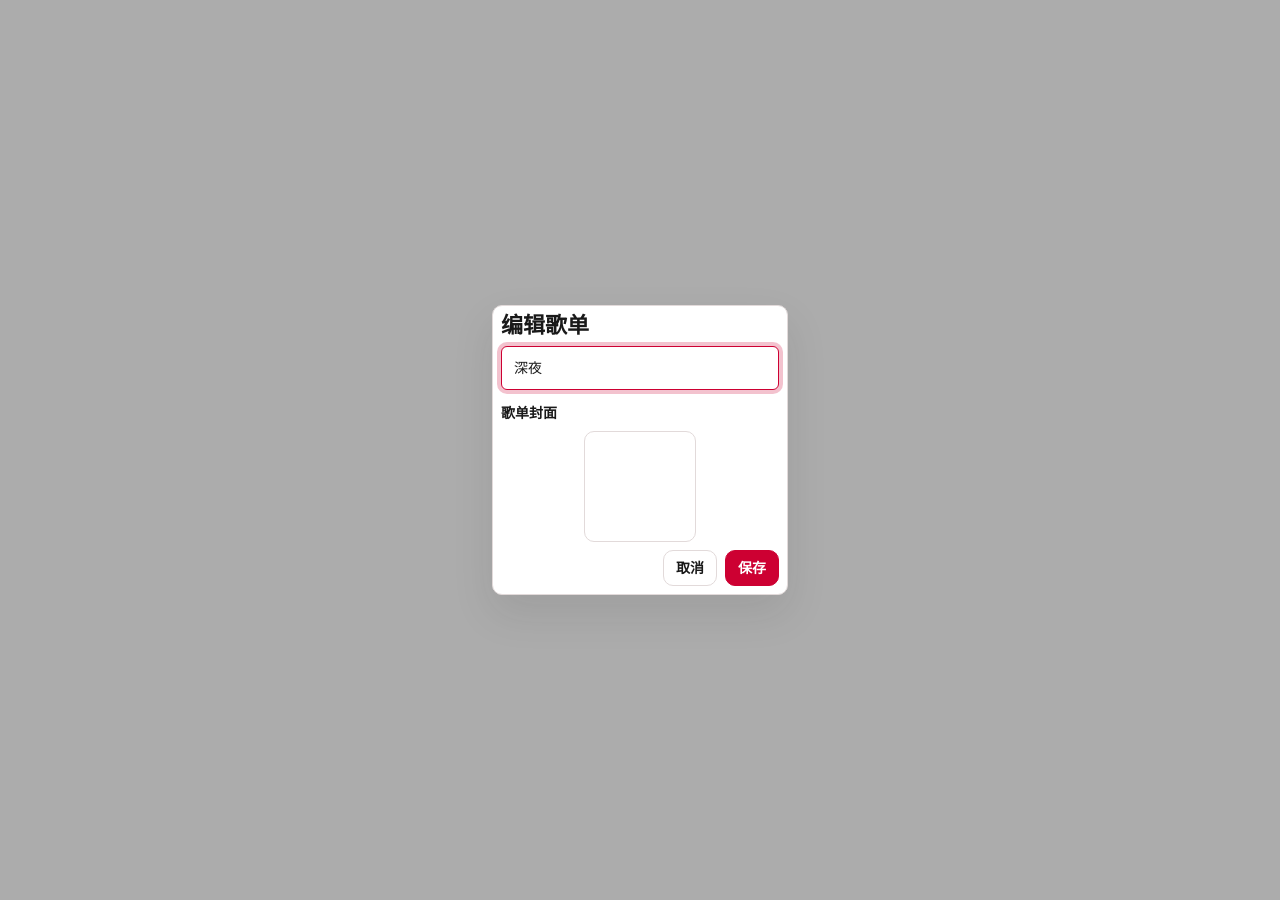
Scenario: PlaylistNameDialog (task 10.9) › surfaces a read-only backend failure instead of the generic save error
Click the button "保存" at (752, 568), box [725,550,779,586]
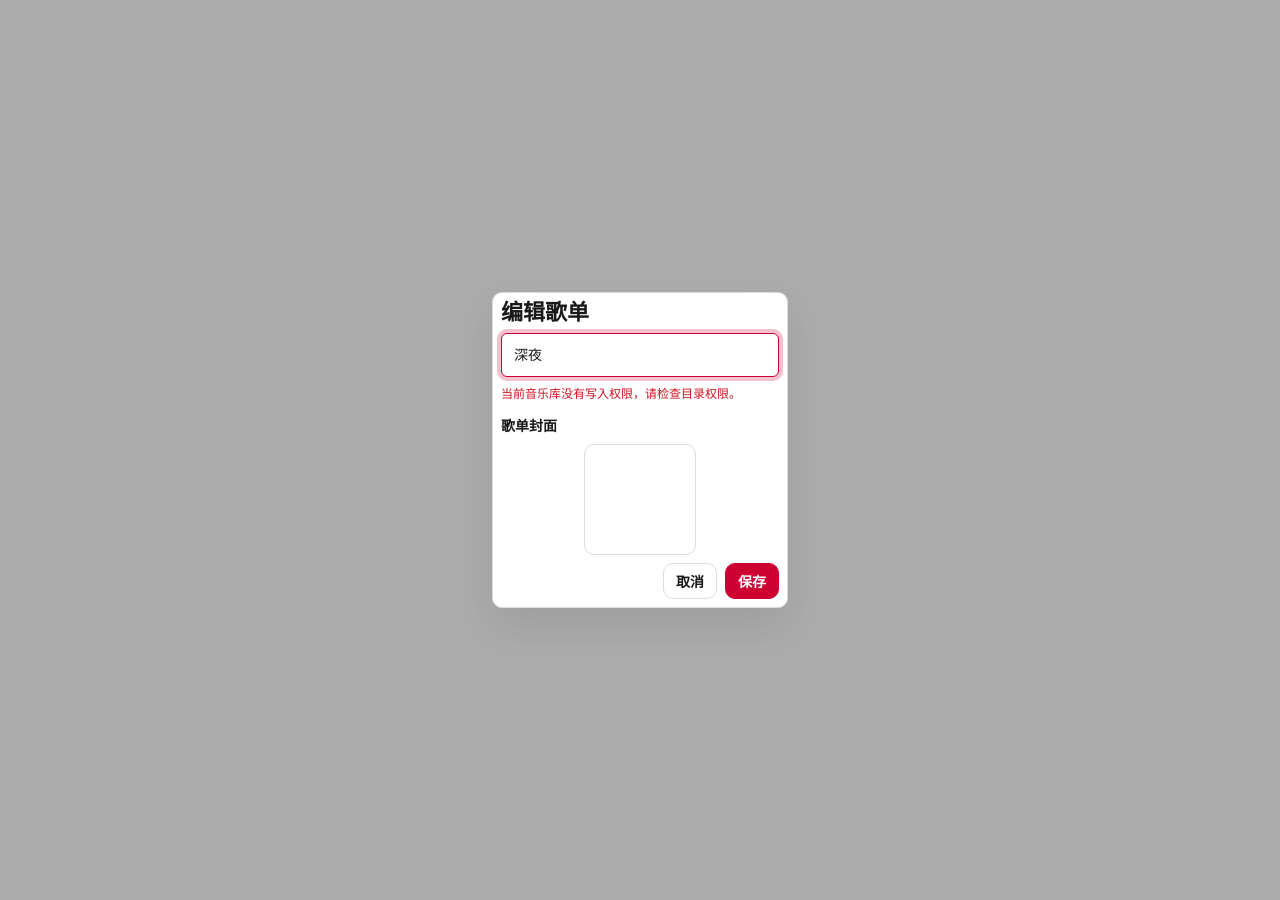
Now the text "当前音乐库没有写入权限，请检查目录权限。" is shown, box [501,384,779,403]
